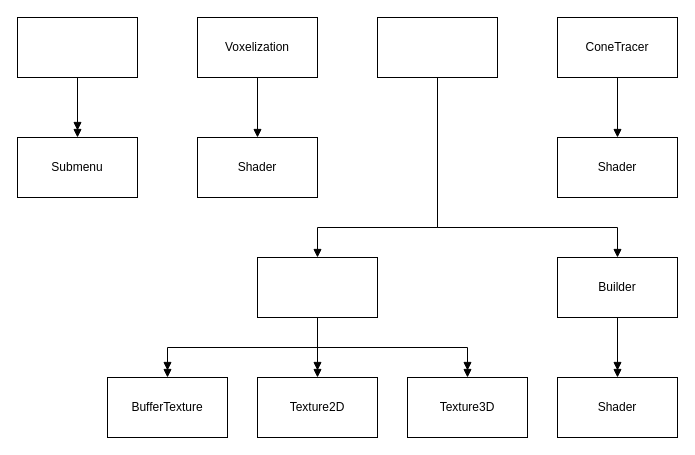
Some shapes in this 695 by 455 pixel diagram are drawn without their labels. The shapes that lost their labels are listed below. From the top down, each one's centre as x and y in pixels, then its label:
At pixel 77 47: "Menu".
At pixel 437 47: "Octree".
At pixel 317 287: "Textures".
